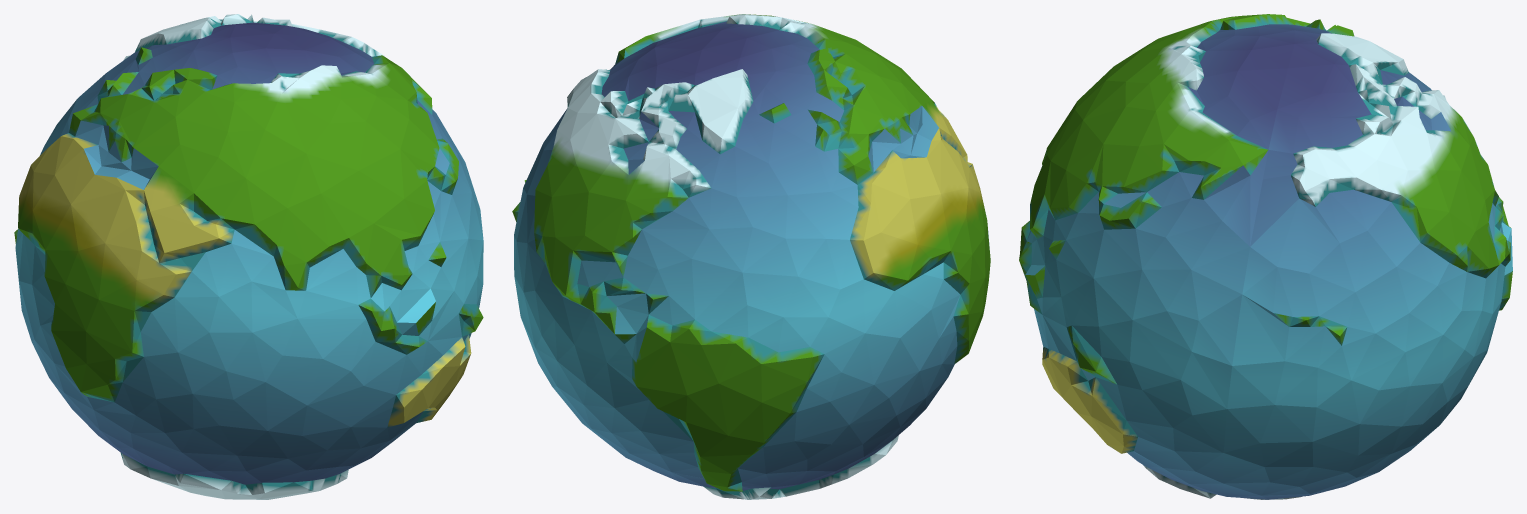
Rendered from Earth.fbx.
3 views of the same model, side by side, from view 1: azimuth 30°, elevation 25°; view 2: azimuth 150°, elevation 25°; view 3: azimuth 270°, elevation 25° (orthographic).
Parts seen in each view (by area): view 1: Earth; view 2: Earth; view 3: Earth.
Boxes of the visible parts, left/top/right/bottom form: Earth: left=14, top=14, right=483, bottom=499; Earth: left=512, top=14, right=990, bottom=499; Earth: left=1019, top=14, right=1512, bottom=499.
Bounding box in the file's own units: 340 × 341 × 346.
